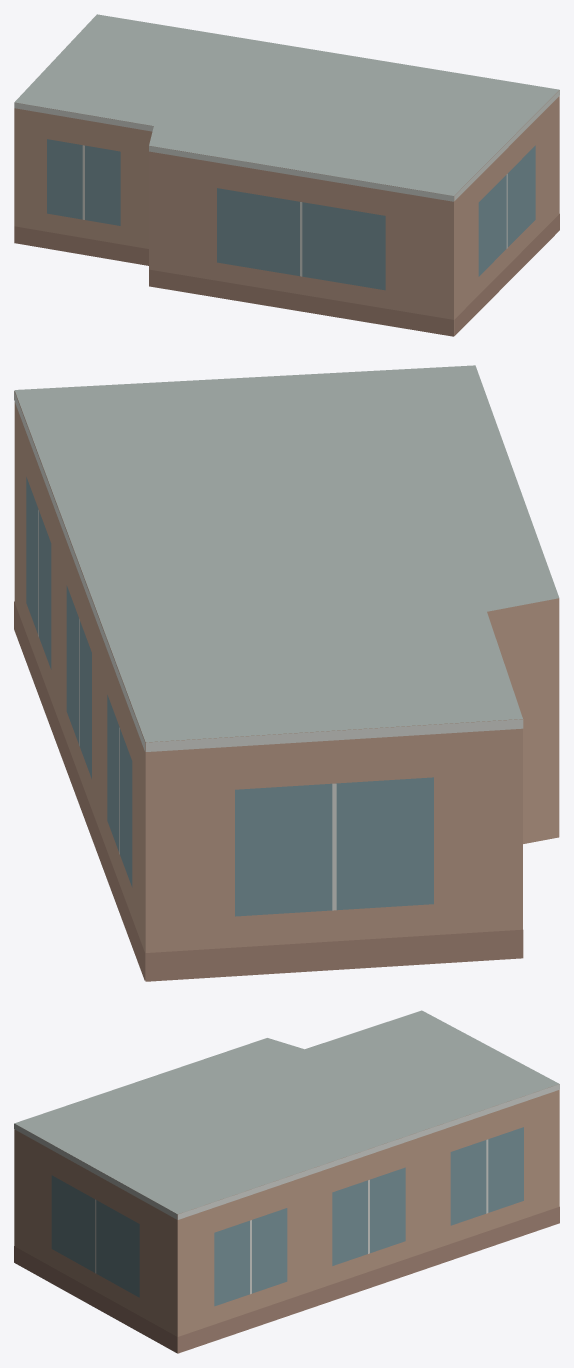
The model's file is survey-upis-32584875.glb.
3 views of the same model, one above another, from view 1: azimuth 30°, elevation 25°; view 2: azimuth 150°, elevation 25°; view 3: azimuth 270°, elevation 25° (orthographic). The views are drawn at different scales.
Parts seen in each view (by area): view 1: survey-upis-32584875.tmp; view 2: survey-upis-32584875.tmp; view 3: survey-upis-32584875.tmp.
Boxes of the visible parts, x1=… form: survey-upis-32584875.tmp: x1=14, y1=14, x2=559, y2=336; survey-upis-32584875.tmp: x1=14, y1=365, x2=559, y2=981; survey-upis-32584875.tmp: x1=14, y1=1010, x2=559, y2=1353.
Size of the model in its own units: 9.59 by 3.05 by 10.84.
